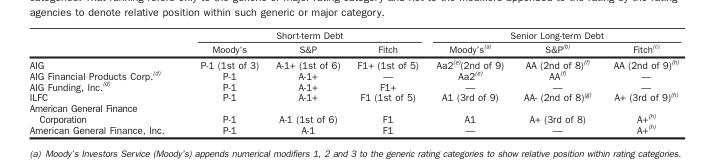table: (28, 29, 677, 134)
table column: (28, 29, 181, 134), (513, 29, 601, 134), (426, 29, 513, 134), (181, 29, 266, 134), (266, 29, 347, 134), (347, 29, 426, 134), (601, 29, 677, 134)
table column header: (28, 29, 677, 55)
table row: (28, 102, 677, 122), (28, 40, 677, 55), (28, 55, 677, 69), (28, 90, 677, 102), (28, 122, 677, 134), (28, 29, 677, 40), (28, 69, 677, 80), (28, 80, 677, 90)
table spanning cell: (426, 29, 677, 40), (181, 29, 426, 40)
